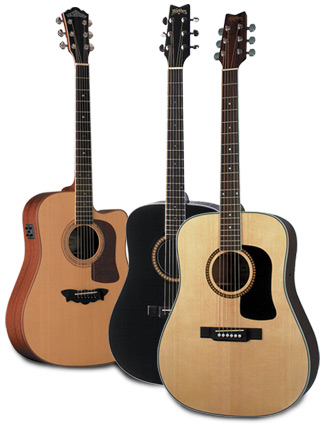guitar: (157, 11, 321, 418), (6, 7, 132, 366), (112, 3, 221, 384)
